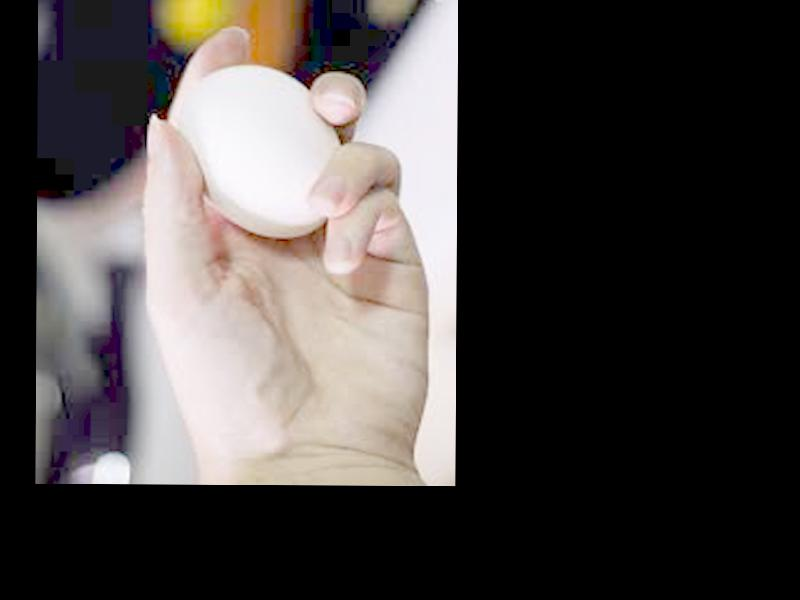Eggs: (179, 62, 338, 236)
